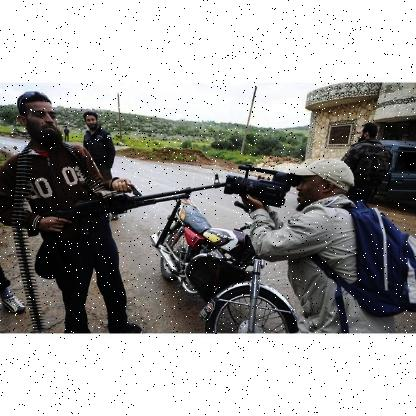gun: (35, 181, 224, 233)
